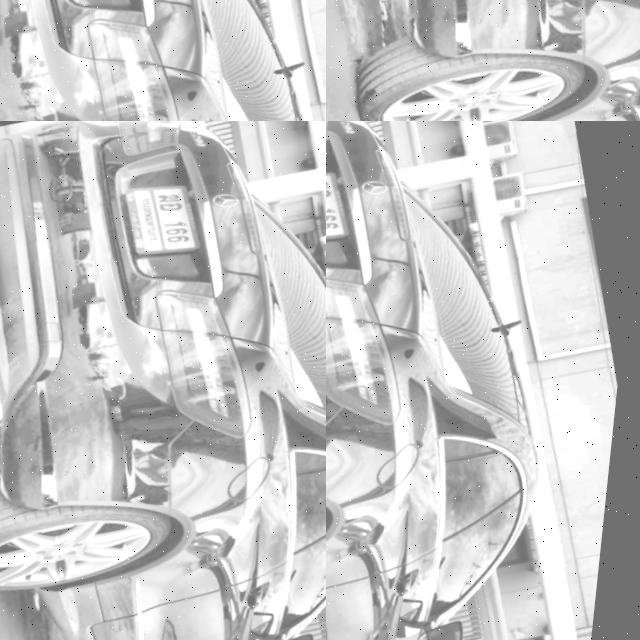license-plate: (0, 0, 326, 121), (326, 151, 358, 244)
